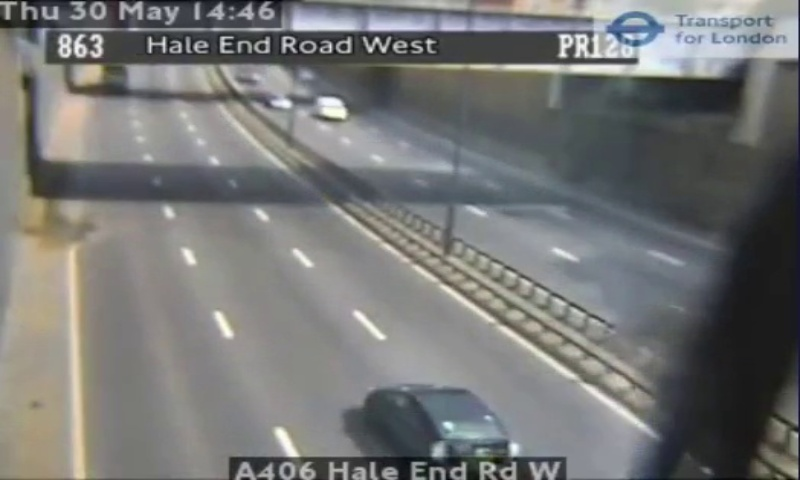car: (367, 384, 512, 456)
